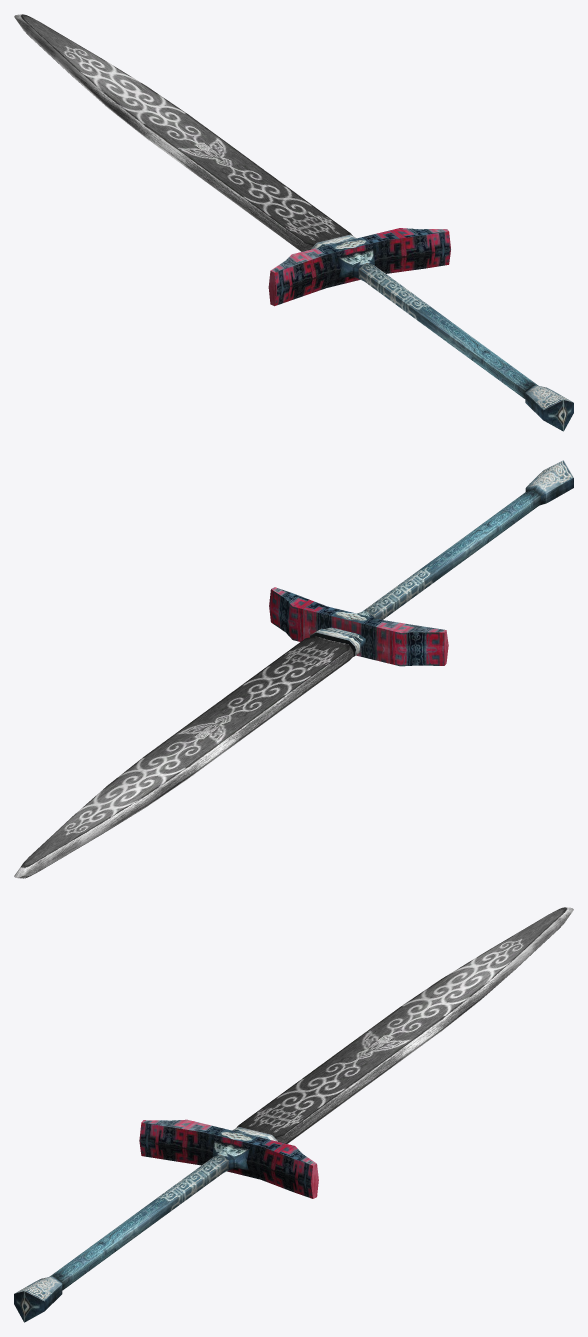
Rendered from sword_l_kamui_kamui.glb.
3 renders of one model, top to bottom at view 1: azimuth 30°, elevation 25°; view 2: azimuth 150°, elevation 25°; view 3: azimuth 330°, elevation 25°, orthographic.
Bounding box in the file's own units: 0.4701 × 0.0867 × 2.52.
1 material, 1 textured.
